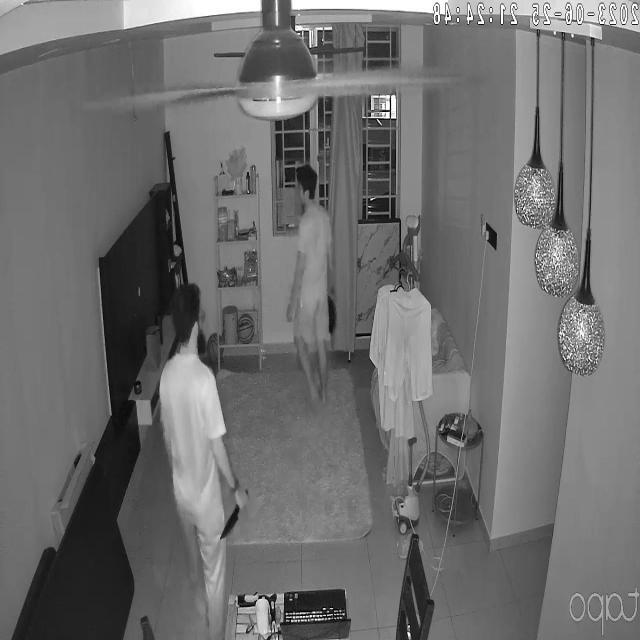Knife: (213, 497, 245, 545)
